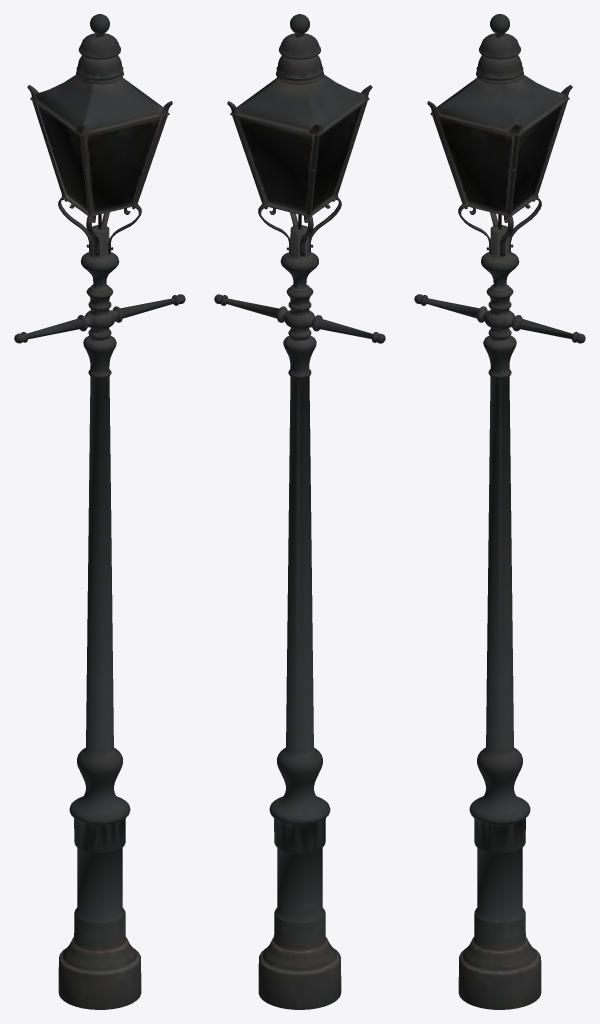
Rendered from street_lamp_01_lod1.glb.
3 renders of one model, left to right at view 1: azimuth 30°, elevation 25°; view 2: azimuth 150°, elevation 25°; view 3: azimuth 330°, elevation 25°, orthographic.
Parts seen in each view (by area): view 1: street_lamp_01; view 2: street_lamp_01; view 3: street_lamp_01.
Part boxes in pixels (x1,y1,x2,y2): street_lamp_01: [14, 14, 185, 1009]; street_lamp_01: [214, 14, 385, 1009]; street_lamp_01: [414, 14, 585, 1009].
Size of the model in its own units: 0.704 by 3.87 by 0.3865.
2 materials, 2 textured.
